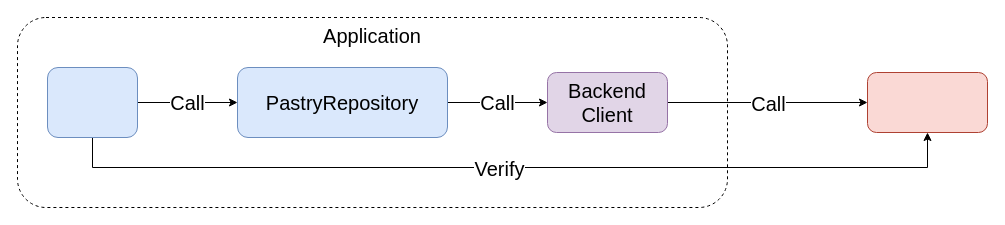
Some shapes in this 1005 by 225 pixel diagram are drawn without their labels. Here are the shapes that lost their labels. From the top down, the centre of each, then its label:
At (92,102): "Test".
At (927,102): "Data Store".
